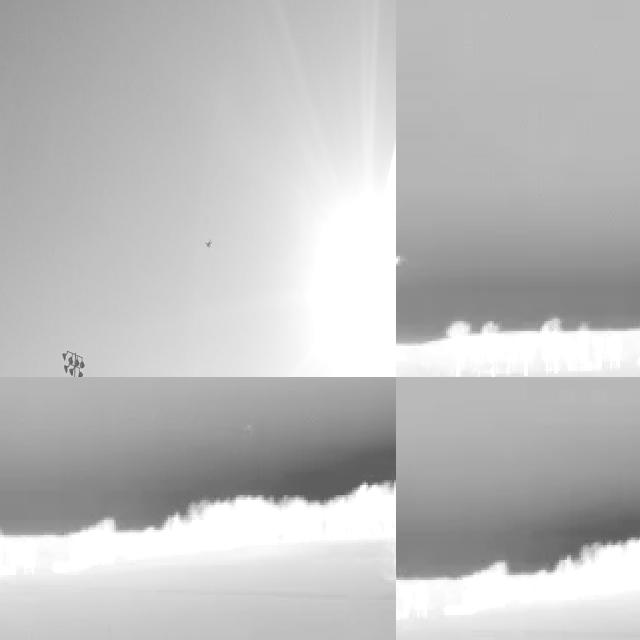0: (233, 413, 263, 445)
1: (396, 243, 413, 280)
drone: (200, 231, 216, 259)
